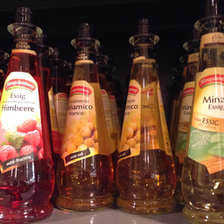vinegar: (119, 16, 181, 211), (1, 7, 57, 220), (62, 16, 118, 211), (186, 2, 223, 224)
